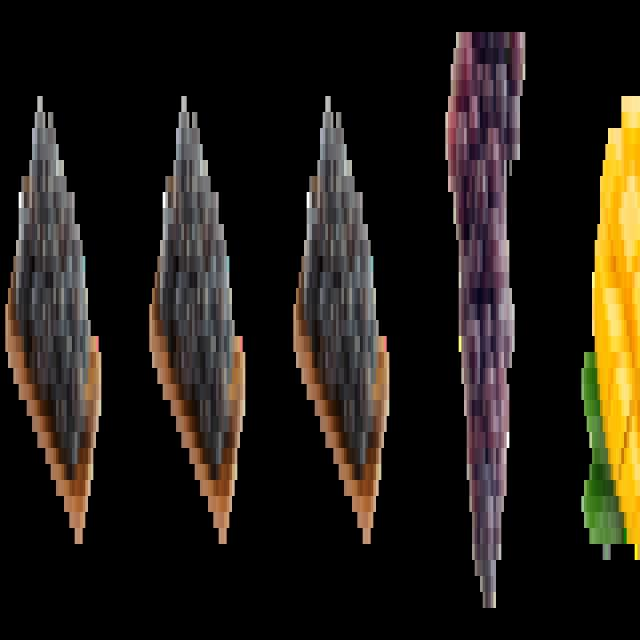grape: (287, 38, 401, 612), (138, 26, 251, 605), (2, 16, 110, 596), (444, 10, 534, 633)
